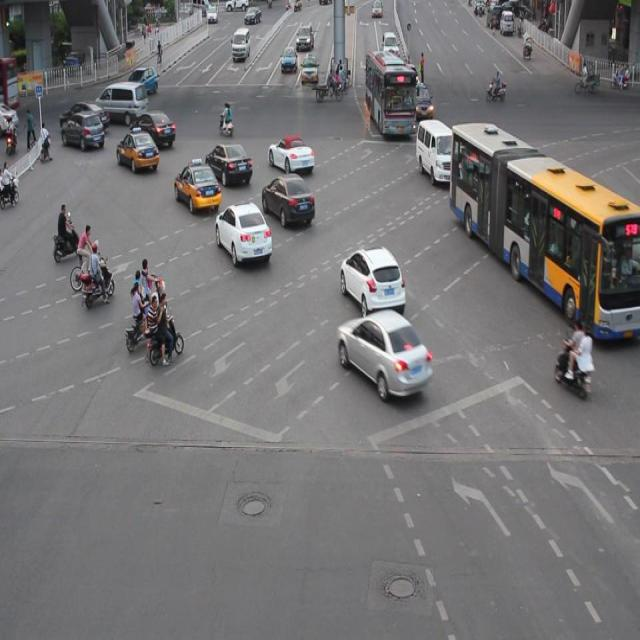car: (337, 308, 432, 396), (340, 245, 406, 312), (214, 200, 272, 262), (261, 172, 316, 226), (173, 161, 220, 211), (205, 141, 252, 186), (116, 128, 159, 172), (129, 110, 176, 148), (267, 135, 314, 173), (62, 109, 104, 149)
truck: (415, 119, 454, 182), (94, 81, 147, 124)
van: (450, 124, 640, 341)
